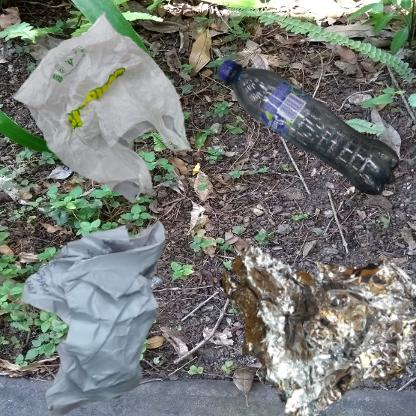aluminio: (213, 213, 416, 416)
bolsa: (10, 10, 194, 206)
botella: (213, 10, 416, 299)
papel: (10, 213, 199, 416)
